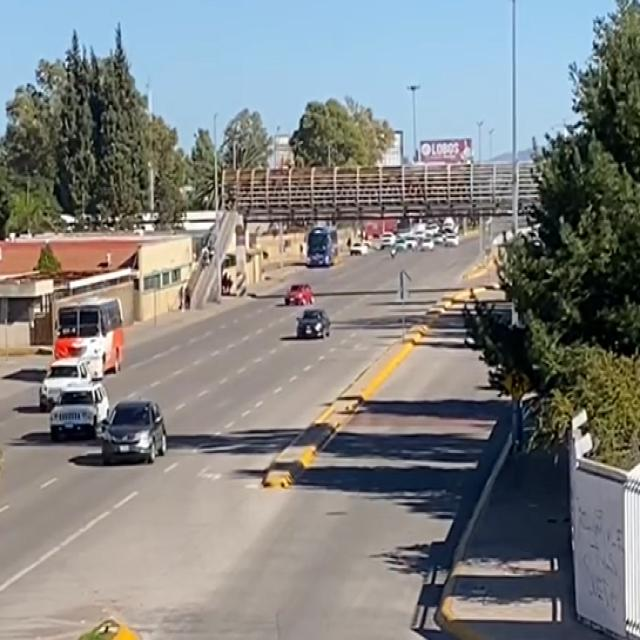Auto: (103, 404, 168, 464), (48, 386, 110, 436), (298, 312, 331, 341)
Autobus: (55, 298, 123, 375)
